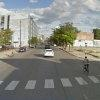Crosswalk: (4, 70, 100, 100)
